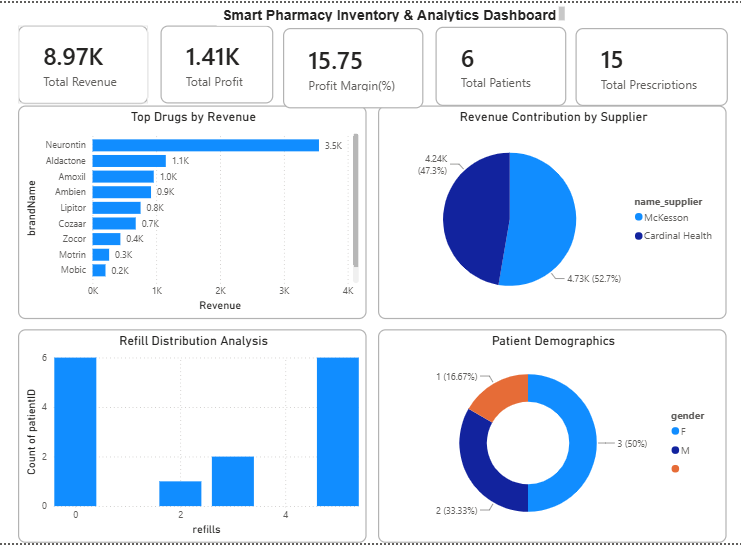

Layout of this report page (visuals, bound fields, positions):
{"tool":"powerbi","page":{"name":"Page 1","canvas":[1280,720],"ordinal":0},"visuals":[{"type":"cardVisual","fields":{"Data":["Sum(Medkart_Analytics_Final.revenue)"]},"box":[286.7,30,173.3,104.4],"z":0},{"type":"cardVisual","fields":{"Data":["Sum(Medkart_Analytics_Final.profit)"]},"box":[476.2,30,150,103.8],"z":1000},{"type":"cardVisual","fields":{"Data":["Count(Medkart_Analytics_Final.patientID)"]},"box":[842.9,31.4,174.3,105.7],"z":2000},{"type":"cardVisual","fields":{"Data":["CountNonNull(Medkart_Analytics_Final.patientID)"]},"box":[1030,32.9,202.9,104.3],"z":3000},{"type":"clusteredBarChart","title":"Top Drugs by Revenue","fields":{"Category":["Medkart_Analytics_Final.brandName"],"Y":["Sum(Medkart_Analytics_Final.revenue)"]},"box":[286.7,136.7,465,285],"z":4000},{"type":"pieChart","title":"Revenue Contribution by Supplier","fields":{"Category":["Medkart_Analytics_Final.name_supplier"],"Y":["Sum(Medkart_Analytics_Final.revenue)"]},"box":[766.7,136.7,465,285],"z":5000},{"type":"clusteredColumnChart","title":"Refill Distribution Analysis","fields":{"Category":["Medkart_Analytics_Final.refills"],"Y":["CountNonNull(Medkart_Analytics_Final.patientID)"]},"box":[286.7,435,465,285],"z":6000},{"type":"donutChart","title":"Patient Demographics","fields":{"Category":["Medkart_Analytics_Final.gender"],"Y":["Count(Medkart_Analytics_Final.patientID)"]},"box":[766.7,435,465,285],"z":7000},{"type":"textbox","box":[573.6,0,469.1,30],"z":8000},{"type":"cardVisual","fields":{"Data":["Medkart_Analytics_Final.Margin"]},"box":[640,32.9,187.1,107.1],"z":9000}]}

Visuals, with their boxes on the page's 1280x720 design canvas (x1, y1, x2, y2). These are canvas units, not pixel positions in the 742x547 screenshot, which may show the page scaled, cropped or inside an application window:
cardVisual - Sum(Medkart_Analytics_Final.revenue): x1=287 y1=30 x2=460 y2=134
cardVisual - Sum(Medkart_Analytics_Final.profit): x1=476 y1=30 x2=626 y2=134
cardVisual - Count(Medkart_Analytics_Final.patientID): x1=843 y1=31 x2=1017 y2=137
cardVisual - CountNonNull(Medkart_Analytics_Final.patientID): x1=1030 y1=33 x2=1233 y2=137
"Top Drugs by Revenue" clusteredBarChart: x1=287 y1=137 x2=752 y2=422
"Revenue Contribution by Supplier" pieChart: x1=767 y1=137 x2=1232 y2=422
"Refill Distribution Analysis" clusteredColumnChart: x1=287 y1=435 x2=752 y2=720
"Patient Demographics" donutChart: x1=767 y1=435 x2=1232 y2=720
textbox: x1=574 y1=0 x2=1043 y2=30
cardVisual - Medkart_Analytics_Final.Margin: x1=640 y1=33 x2=827 y2=140
